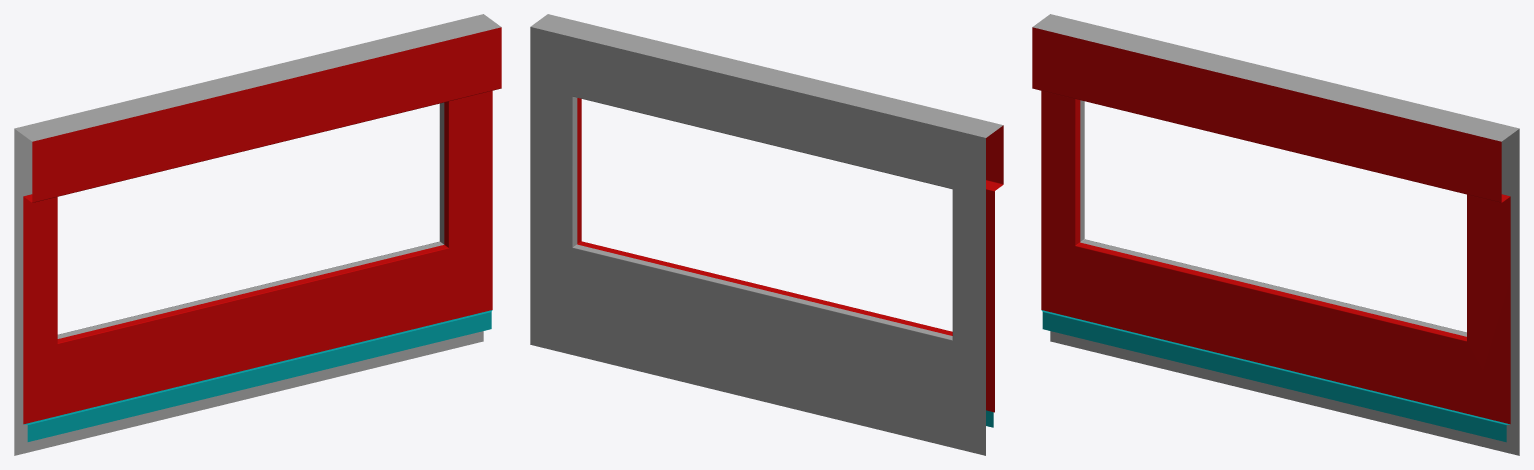
Rendered from Stairs_Window_01_Snaps014.fbx.
The picture shows the model from 3 angles, left to right: view 1: azimuth 30°, elevation 25°; view 2: azimuth 150°, elevation 25°; view 3: azimuth 330°, elevation 25°; orthographic projection. The views are drawn at different scales.
Parts seen in each view (by area): view 1: Stairs_Window_01_LOD00; view 2: Stairs_Window_01_LOD00; view 3: Stairs_Window_01_LOD00.
Part boxes in pixels (bbox=[...]): Stairs_Window_01_LOD00: bbox=[14, 14, 501, 455]; Stairs_Window_01_LOD00: bbox=[530, 14, 1003, 455]; Stairs_Window_01_LOD00: bbox=[1032, 14, 1519, 455].
Size of what is drawn, in the model's own units: 600 by 400 by 40.
